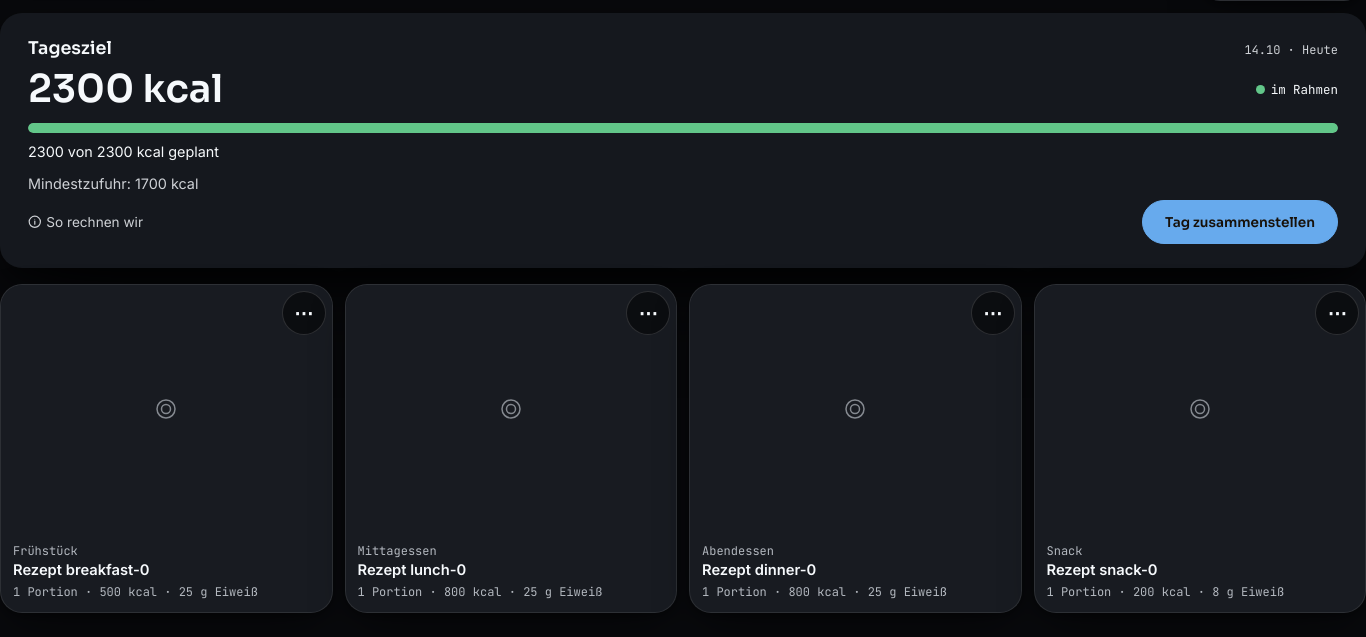
Scenario: WeekView — Tag zusammenstellen, Tauschen, Entfernen › zeigt auch einen Löschfehler sichtbar an
This screenshot has width=1366, height=637.
What coordinates should you click on to do the following:
click the button named "Snack: Aktionen"
I would click on:
 (1337, 313)
Its box is [1315,291,1359,335].
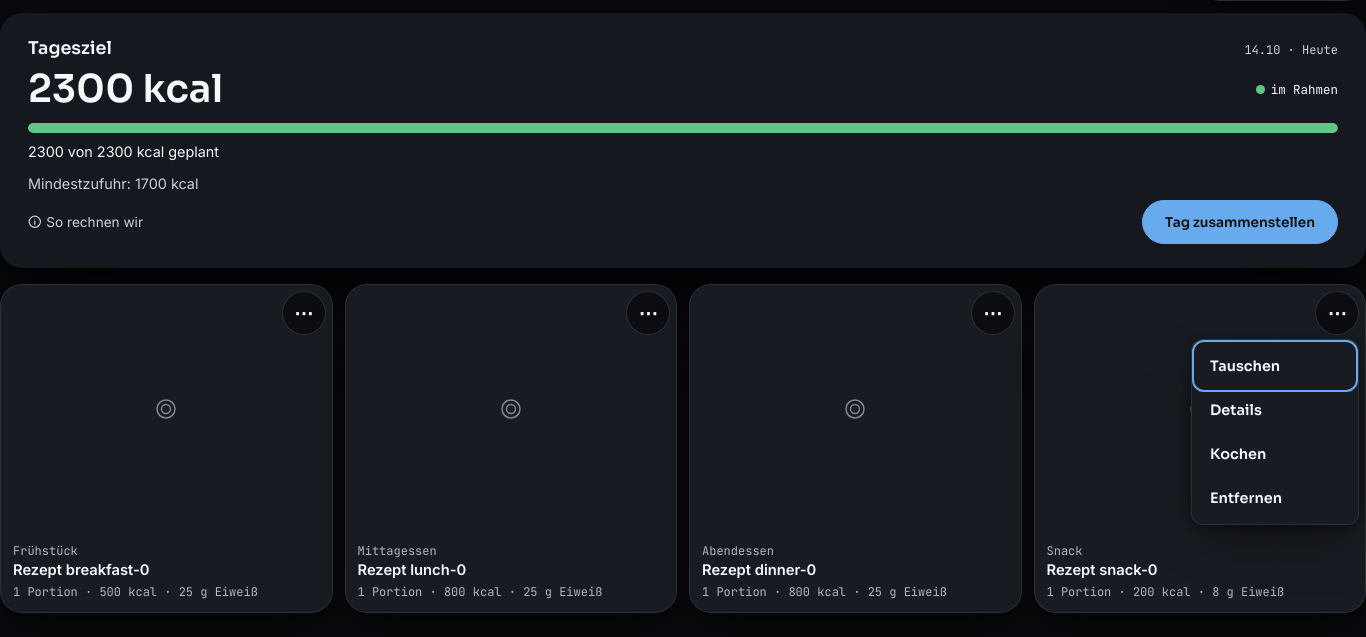
What coordinates should you click on to do the following:
click the menu item "Entfernen"
I would click on:
 (1275, 498)
Its box is [1196,476,1354,520].
(page scrolled)
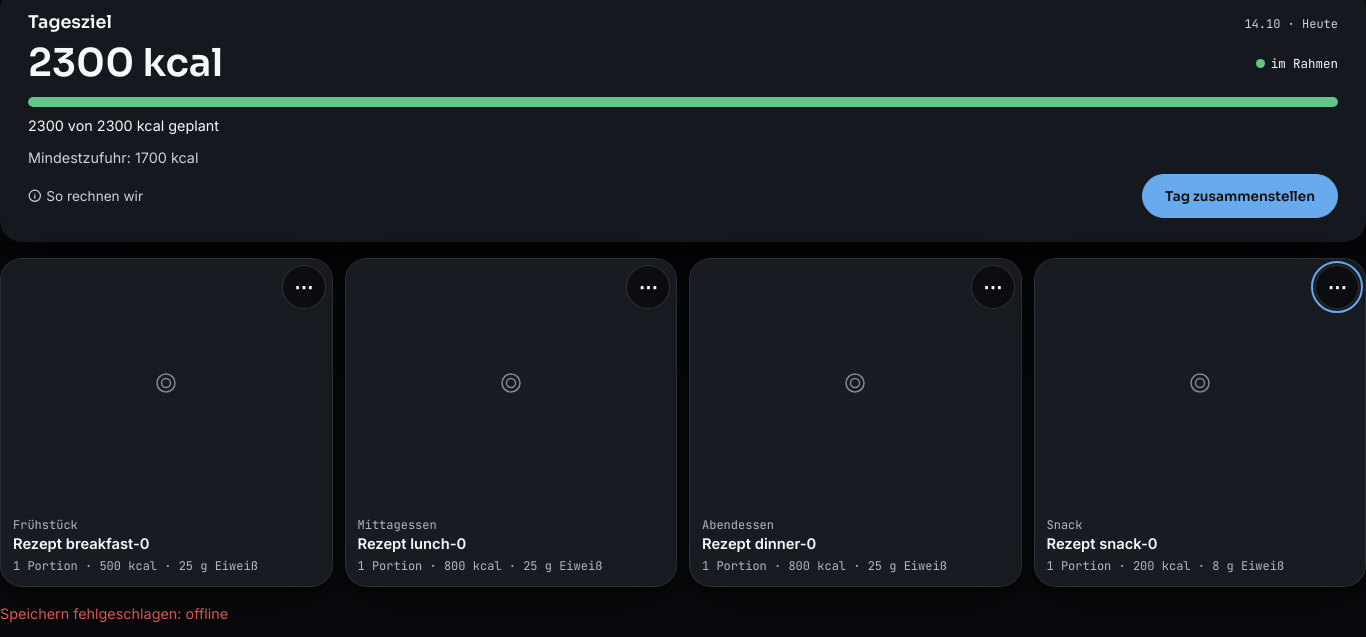
Check: the message shows "offline", box [0,605,228,622]
